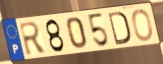0: (66, 16, 89, 50)
5: (86, 11, 111, 48)
8: (45, 18, 65, 53)
D: (106, 10, 132, 46)
O: (131, 8, 155, 43)
R: (18, 21, 48, 57)
